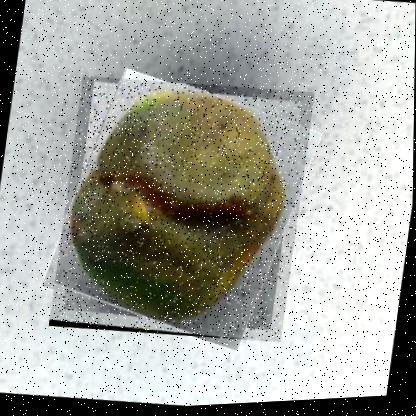orange_rotten: (47, 67, 314, 355)
